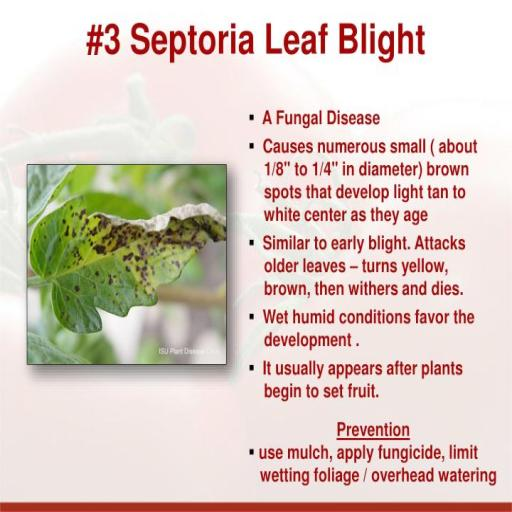disease_tomato: (28, 198, 224, 344)
